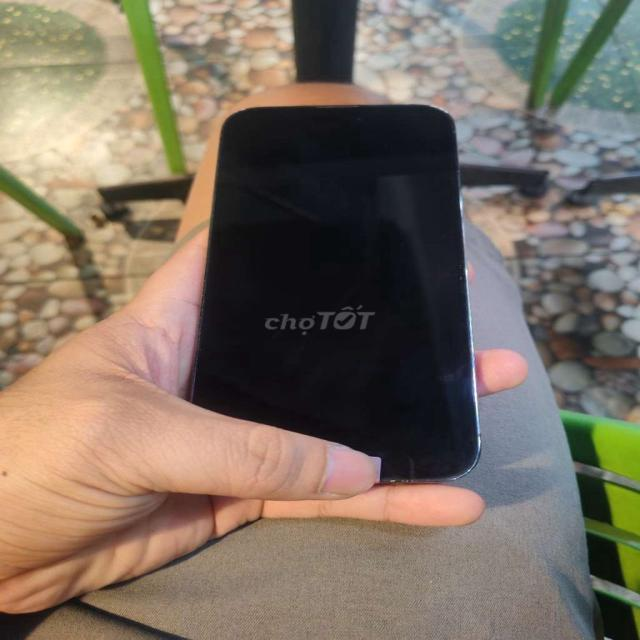gen_14: (189, 101, 497, 494)
